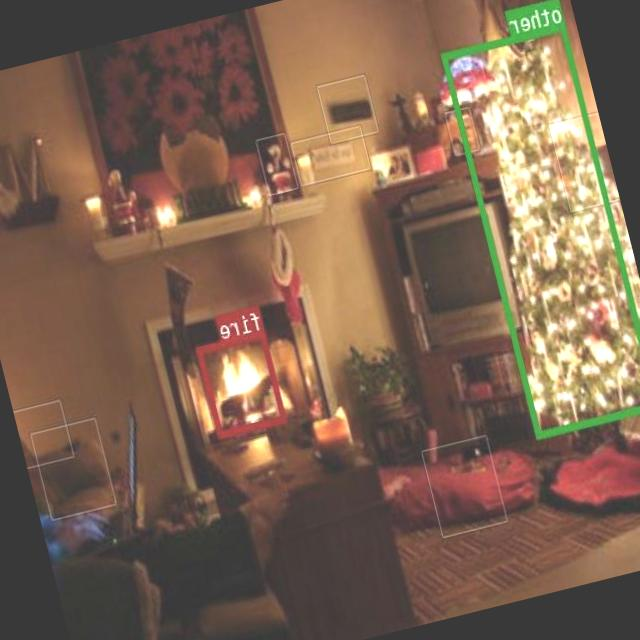fire: (196, 330, 288, 437)
